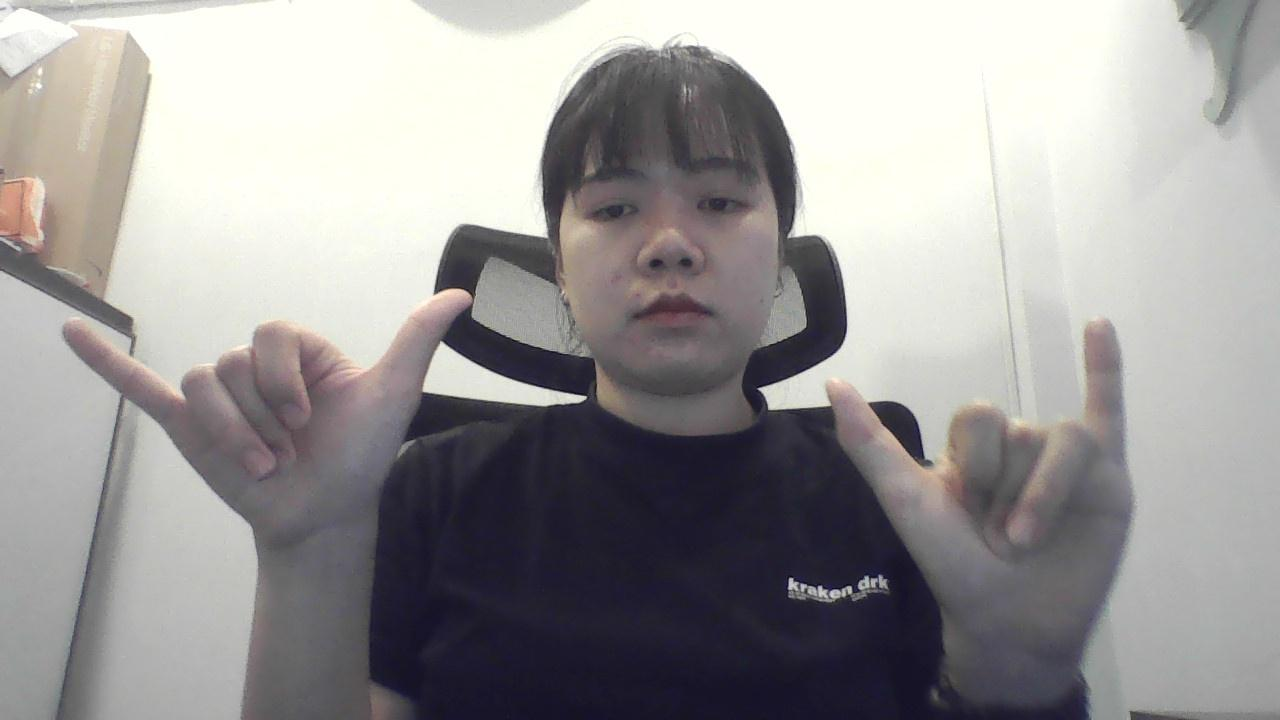Y: (807, 300, 1152, 658), (55, 284, 496, 552)
